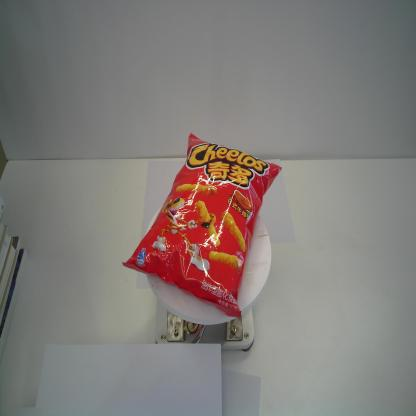Puffed Food: (122, 131, 282, 317)
